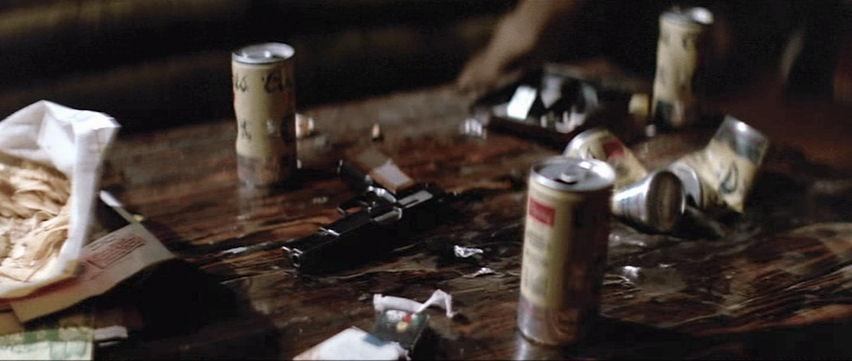gun: (243, 145, 505, 312)
